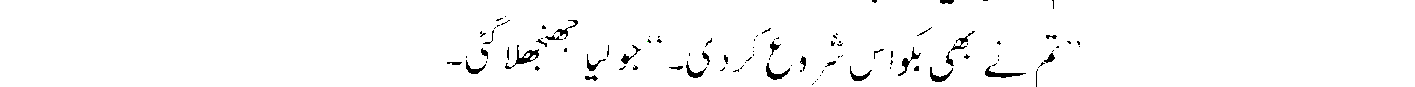bay_shosha: (909, 49, 924, 72)
